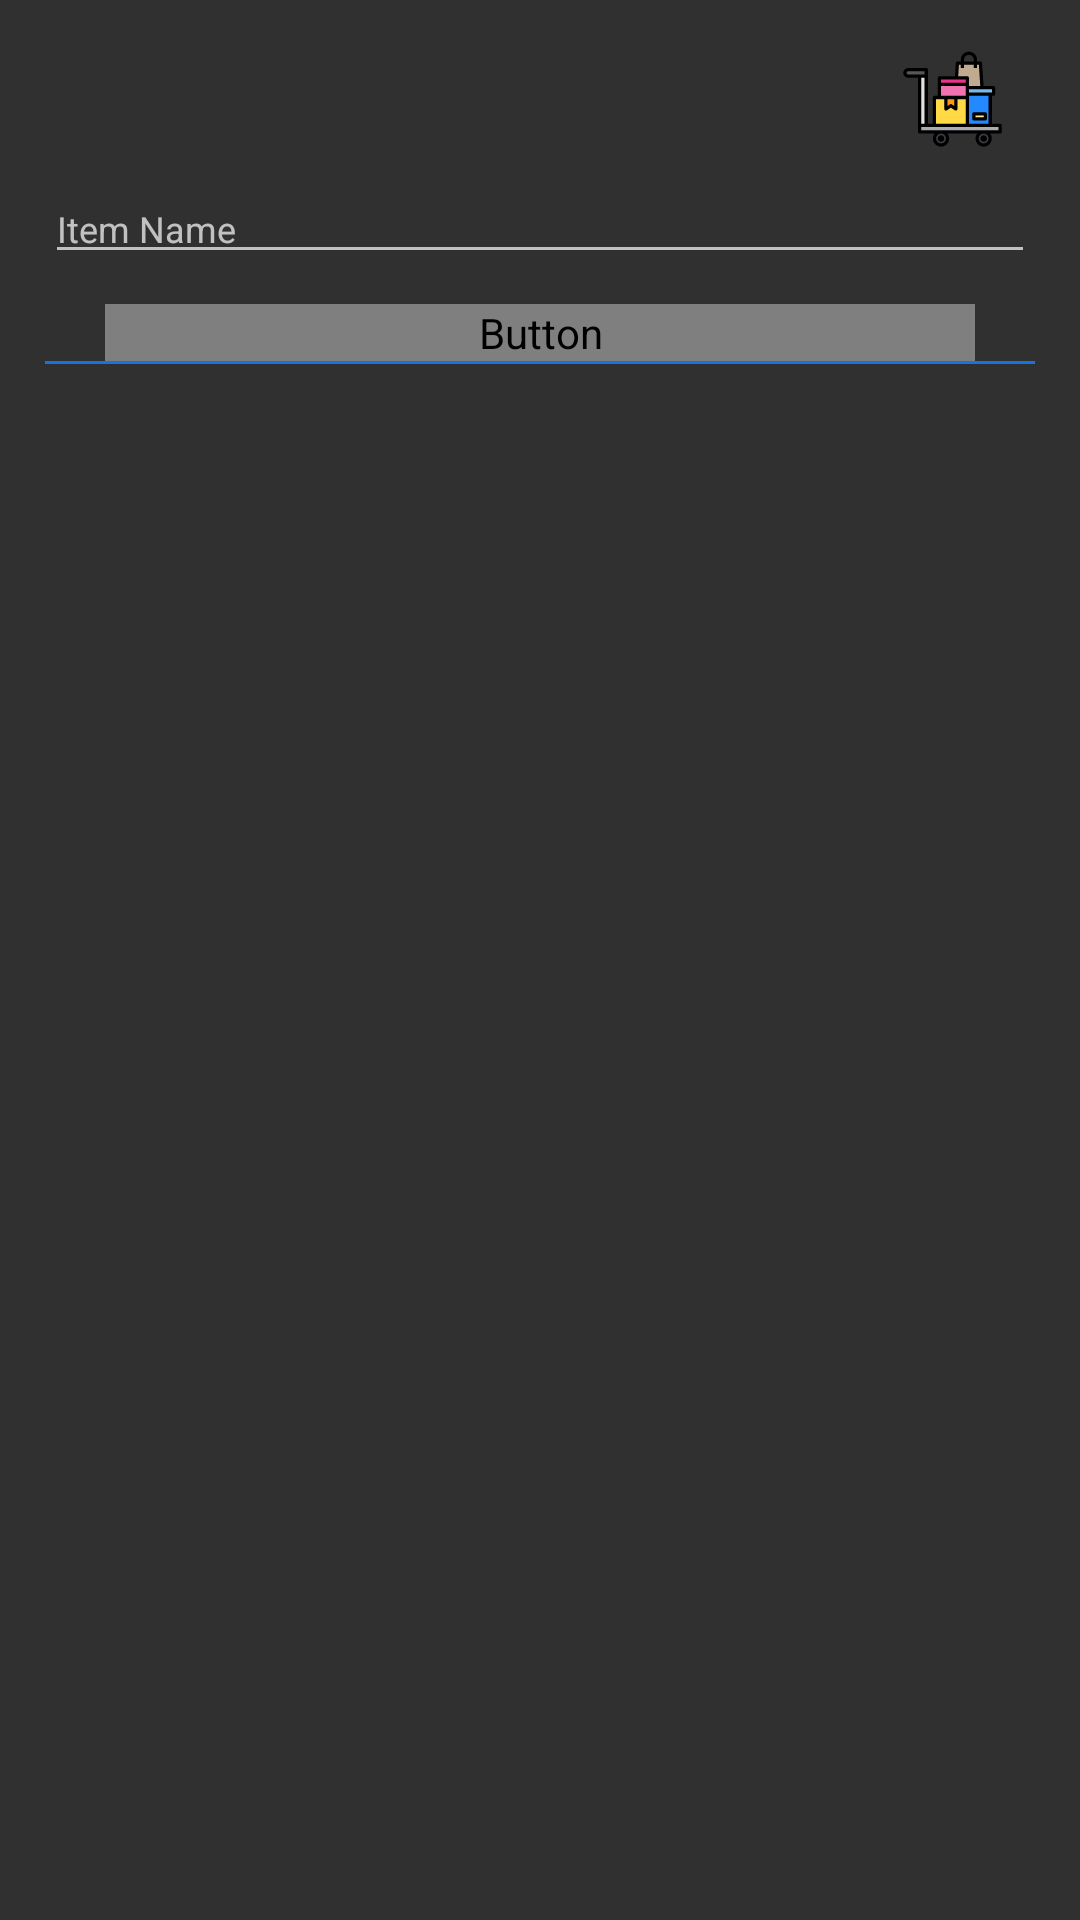

Locate icon controls on the screen. Image size 1080px×1920px, boxes as [x1,y1,x2,y2].
item catergory: [903,52,1002,147]
